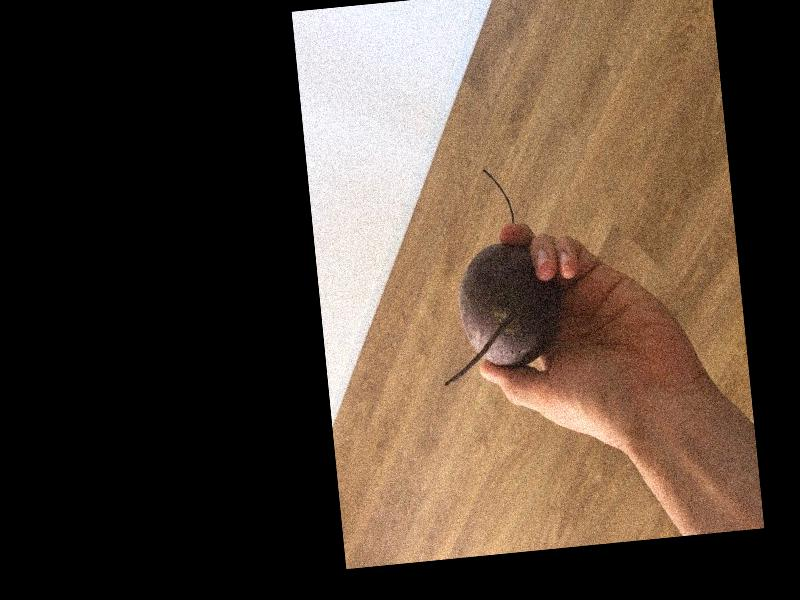Beet: (424, 162, 564, 385)
